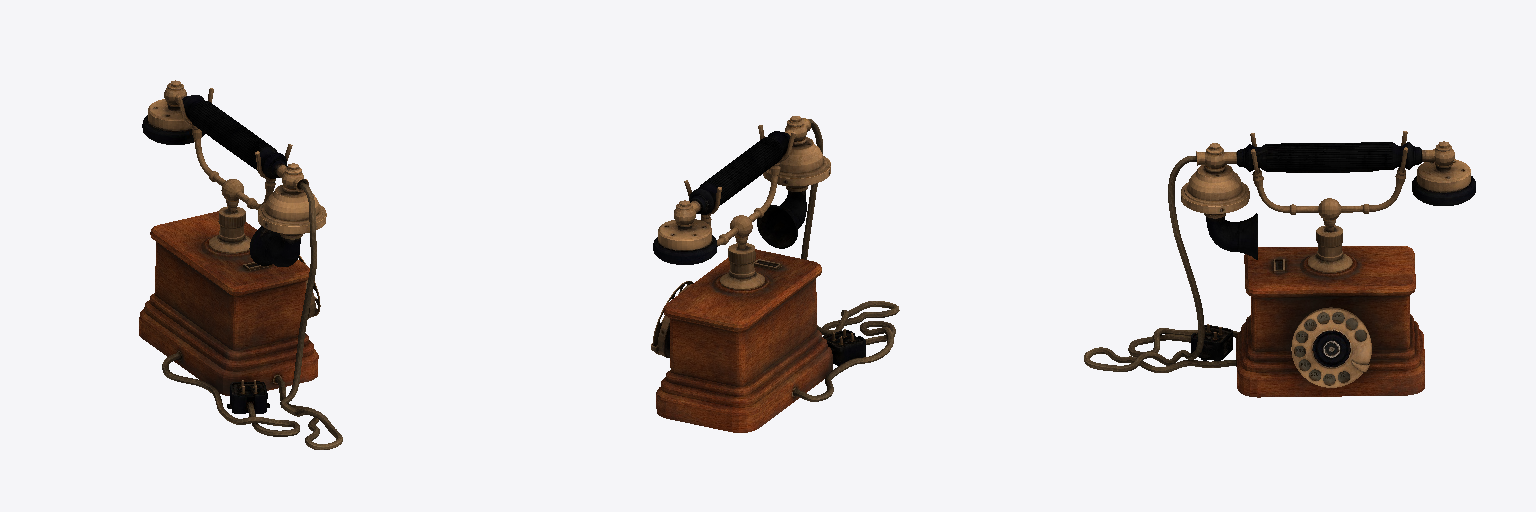
3 views of the same model, side by side, from view 1: azimuth 30°, elevation 25°; view 2: azimuth 150°, elevation 25°; view 3: azimuth 270°, elevation 25° (orthographic).
Visible parts, largest first — view 1: defaultMaterial; view 2: defaultMaterial; view 3: defaultMaterial.
Boxes of the visible parts, x1,y1,x2,y2 form: defaultMaterial: [139, 80, 342, 449]; defaultMaterial: [651, 116, 899, 432]; defaultMaterial: [1084, 131, 1475, 397].
Size of the model in its own units: 2.22 by 3.28 by 4.94.
Materials: 1 (1 with a texture image).